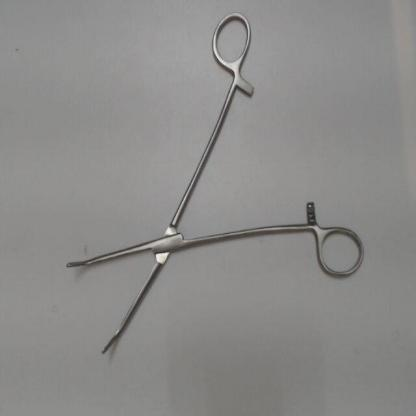Lahey Forceps: (60, 4, 370, 367)
